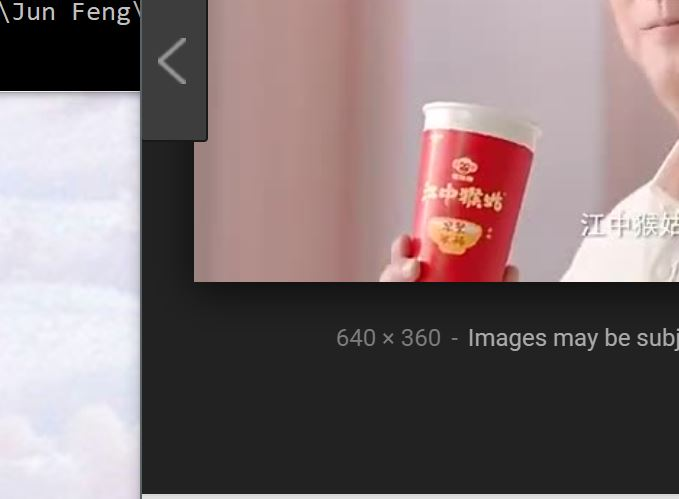cup: (411, 103, 528, 281)
